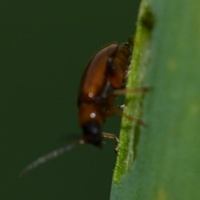insect: (19, 36, 132, 175)
